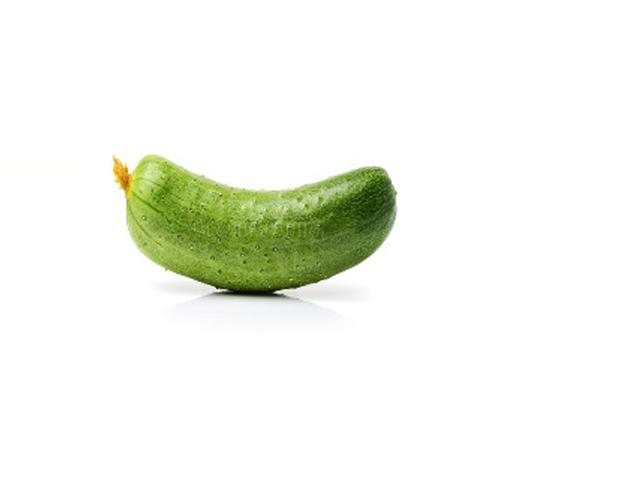cucumber: (110, 153, 398, 294)
